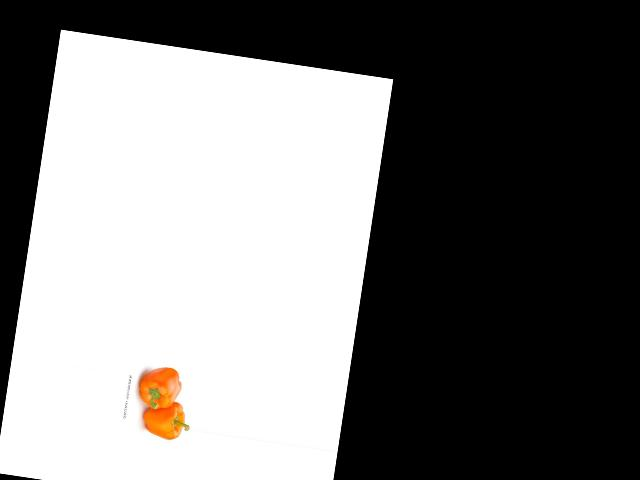bell_pepper: (131, 361, 185, 414)
